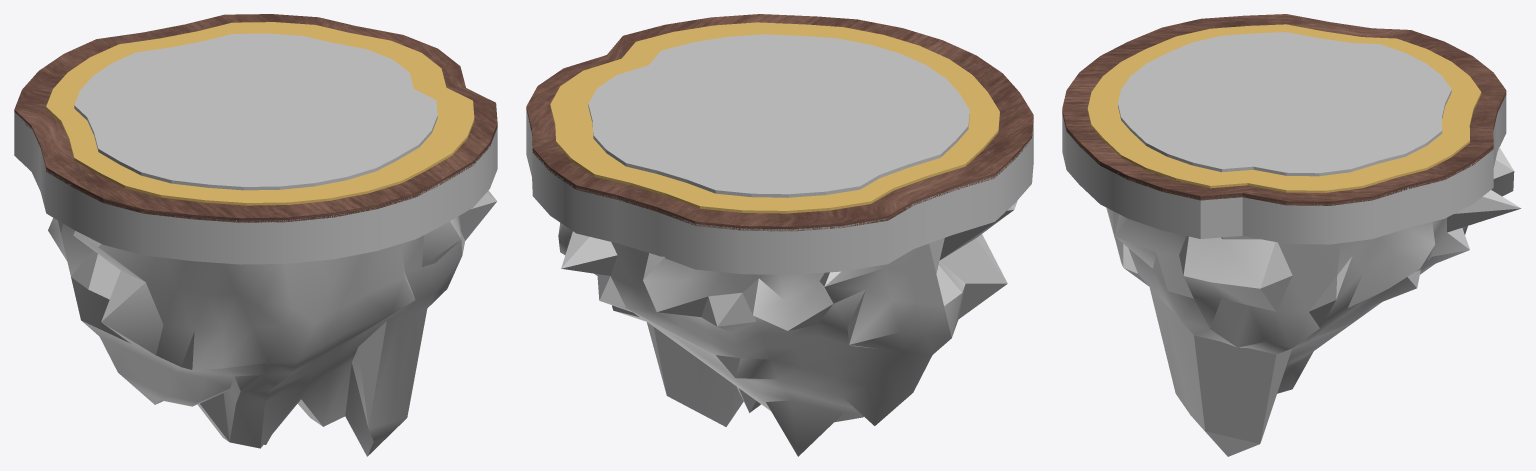
Rendered from terreno_zes_Atual.fbx.
3 views of the same model, side by side, from view 1: azimuth 30°, elevation 25°; view 2: azimuth 150°, elevation 25°; view 3: azimuth 270°, elevation 25° (orthographic). The views are drawn at different scales.
Visible parts, largest first — view 1: Icosphere, Cylinder.002, Cylinder.004, Cylinder.001, Cylinder.003; view 2: Icosphere, Cylinder.002, Cylinder.004, Cylinder.001, Cylinder.003; view 3: Icosphere, Cylinder.002, Cylinder.004, Cylinder.001, Cylinder.003.
Part boxes in pixels (left/top/right/bottom): Icosphere: left=48, top=190, right=496, bottom=456; Cylinder.002: left=74, top=33, right=437, bottom=190; Cylinder.004: left=14, top=112, right=497, bottom=264; Cylinder.001: left=14, top=14, right=497, bottom=222; Cylinder.003: left=46, top=22, right=474, bottom=205; Icosphere: left=558, top=200, right=1017, bottom=456; Cylinder.002: left=588, top=34, right=969, bottom=197; Cylinder.004: left=526, top=110, right=1033, bottom=274; Cylinder.001: left=526, top=14, right=1033, bottom=231; Cylinder.003: left=550, top=22, right=999, bottom=213; Icosphere: left=1106, top=147, right=1521, bottom=456; Cylinder.002: left=1118, top=32, right=1451, bottom=176; Cylinder.004: left=1062, top=95, right=1506, bottom=244; Cylinder.001: left=1062, top=14, right=1506, bottom=205; Cylinder.003: left=1087, top=24, right=1481, bottom=192.
Bounding box in the file's own units: 230 × 182 × 238.
